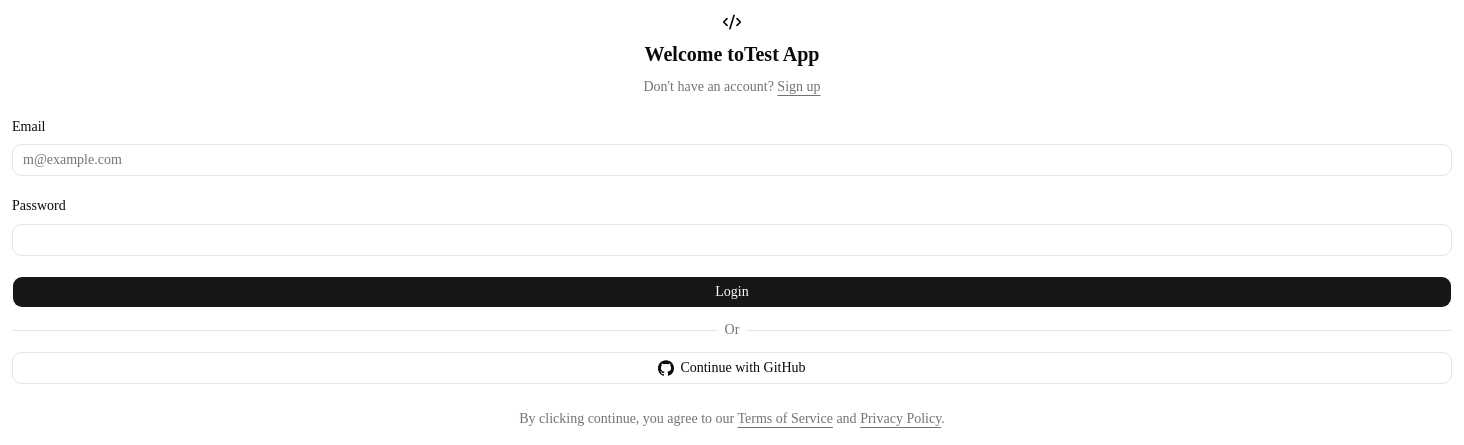
Test: loginForm › shows Redirecting... and disables GitHub button after click
This screenshot has width=1464, height=445.
What coordinates should you click on to do the following:
click the button "Continue with GitHub"
I would click on:
 (732, 368)
Its box is left=12, top=352, right=1452, bottom=384.
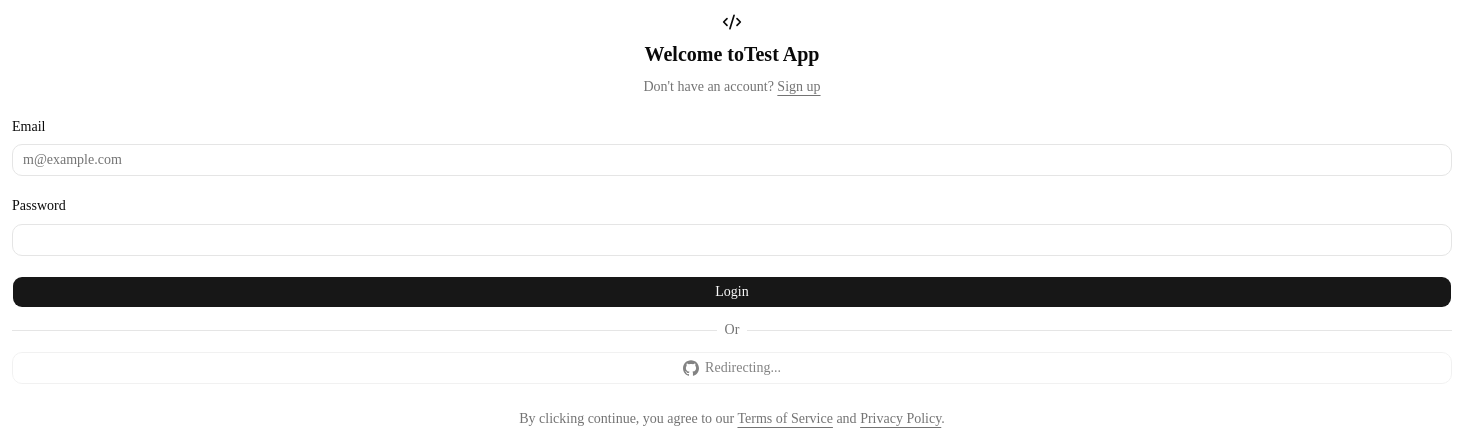
Expected: the button "Redirecting..." is disabled, left=12, top=352, right=1452, bottom=384
